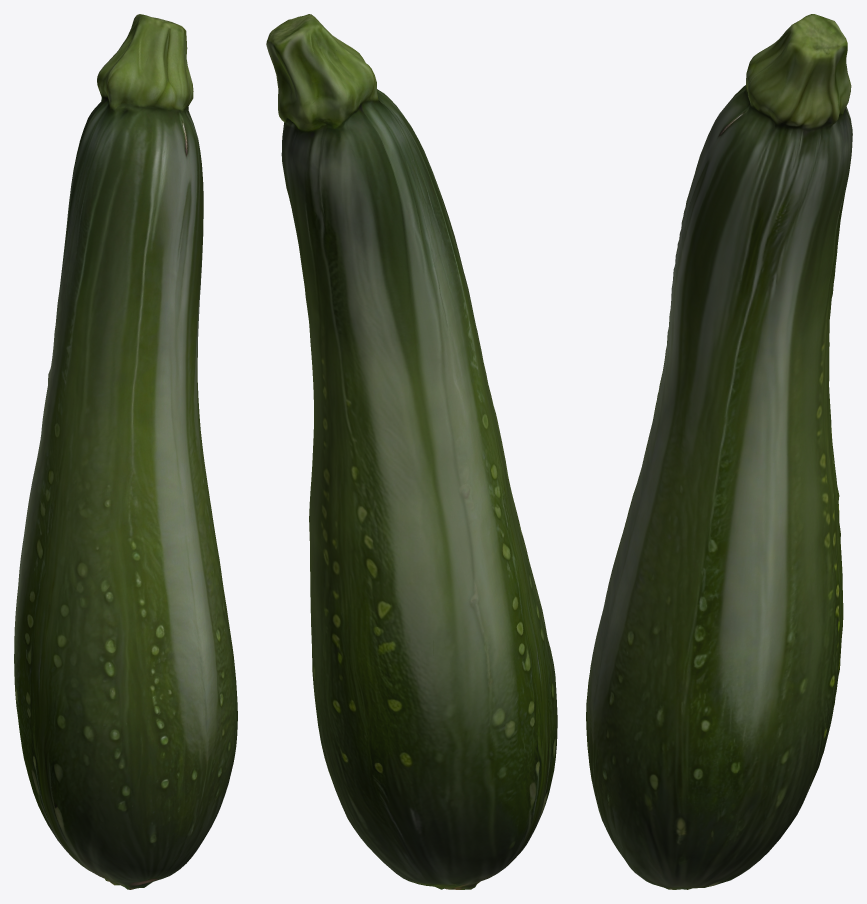
The picture shows the model from 3 angles, left to right: view 1: azimuth 30°, elevation 25°; view 2: azimuth 150°, elevation 25°; view 3: azimuth 270°, elevation 25°; orthographic projection. The views are drawn at different scales.
Parts seen in each view (by area): view 1: Zucchini_0; view 2: Zucchini_0; view 3: Zucchini_0.
Part boxes in pixels (x1,y1,x2,y2): Zucchini_0: [14, 14, 237, 889]; Zucchini_0: [266, 14, 557, 889]; Zucchini_0: [586, 14, 852, 889].
Size of the model in its own units: 0.5113 by 2 by 0.533.
Materials: 1 (1 with a texture image).
